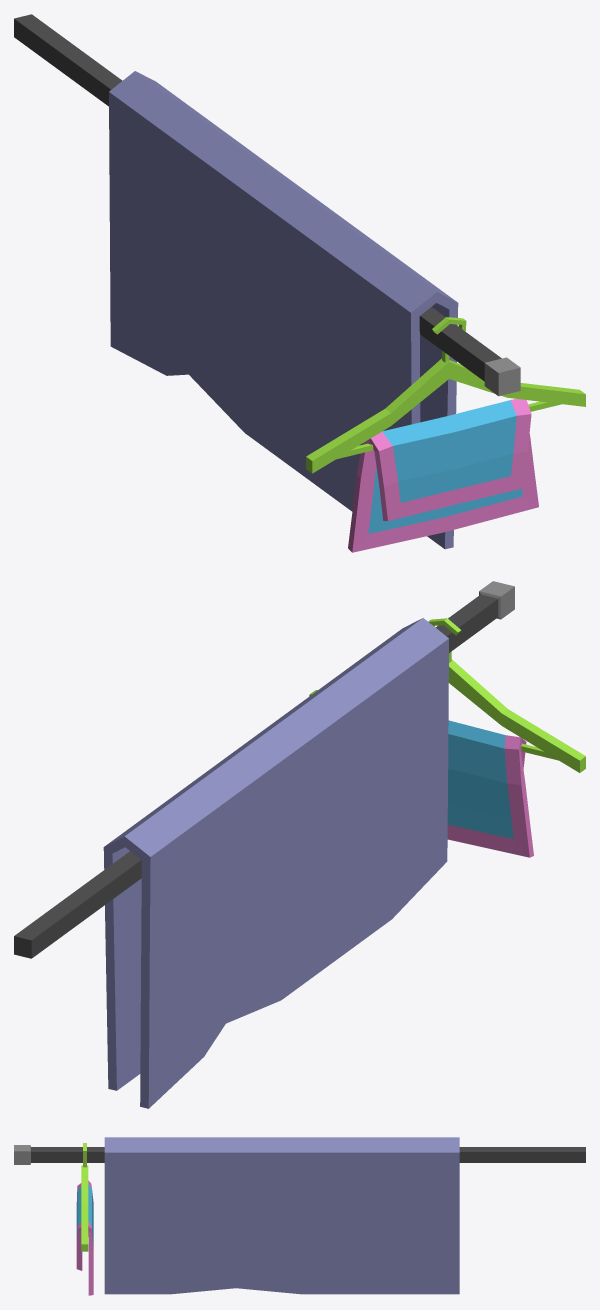
The model's file is clothes4.fbx.
The picture shows the model from 3 angles, top to bottom: view 1: azimuth 30°, elevation 25°; view 2: azimuth 150°, elevation 25°; view 3: azimuth 270°, elevation 25°; orthographic projection. The views are drawn at different scales.
Visible parts, largest first — view 1: Cube.017; view 2: Cube.017; view 3: Cube.017.
Part boxes in pixels (x1=…): Cube.017: x1=14, y1=14, x2=585, y2=552; Cube.017: x1=14, y1=581, x2=585, y2=1108; Cube.017: x1=14, y1=1137, x2=585, y2=1295.
Bounding box in the file's own units: 94.09 × 88.59 × 290.
